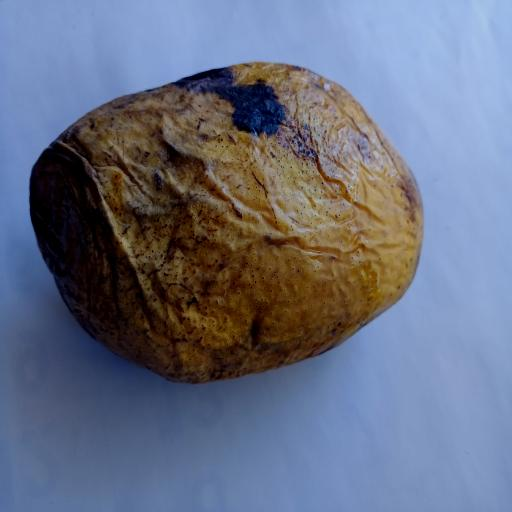mango-overripe: (20, 55, 433, 384)
